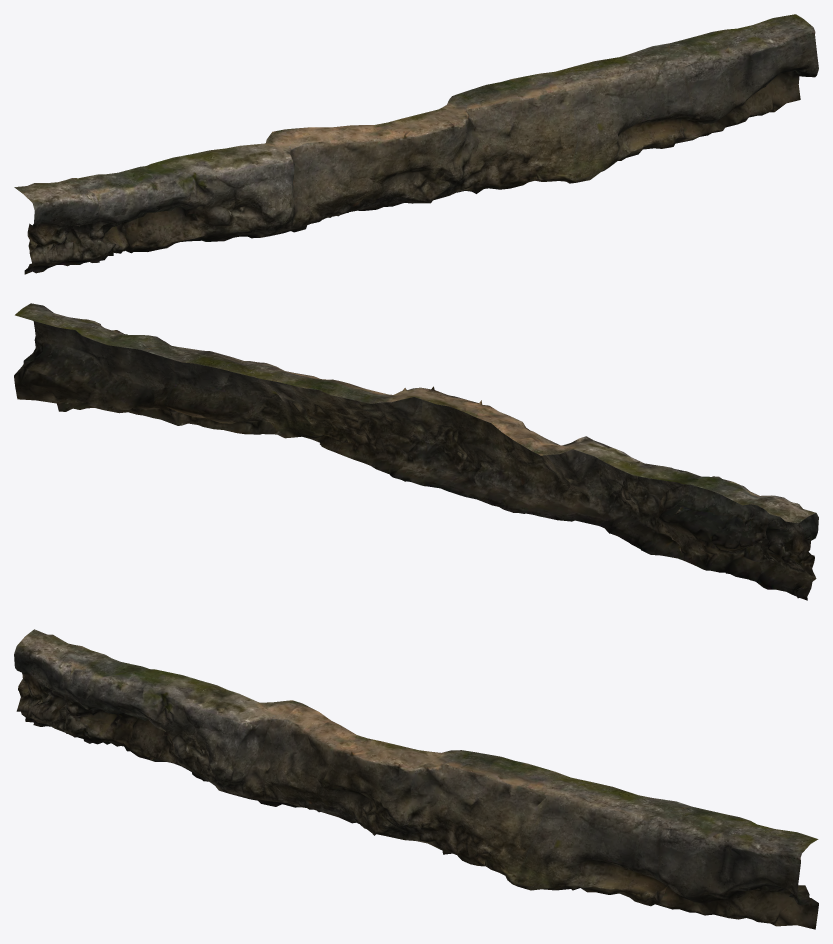
Rendered from coastal_cliff_01.glb.
The picture shows the model from 3 angles, top to bottom: view 1: azimuth 30°, elevation 25°; view 2: azimuth 150°, elevation 25°; view 3: azimuth 330°, elevation 25°; orthographic projection. The views are drawn at different scales.
Parts seen in each view (by area): view 1: coastal_cliff_01; view 2: coastal_cliff_01; view 3: coastal_cliff_01.
Part boxes in pixels (x1,y1,x2,y2): coastal_cliff_01: (14, 14, 818, 274); coastal_cliff_01: (14, 303, 818, 600); coastal_cliff_01: (14, 629, 818, 929).
Bounding box in the file's own units: 91.94 × 10.2 × 10.92.
1 material, 1 textured.
